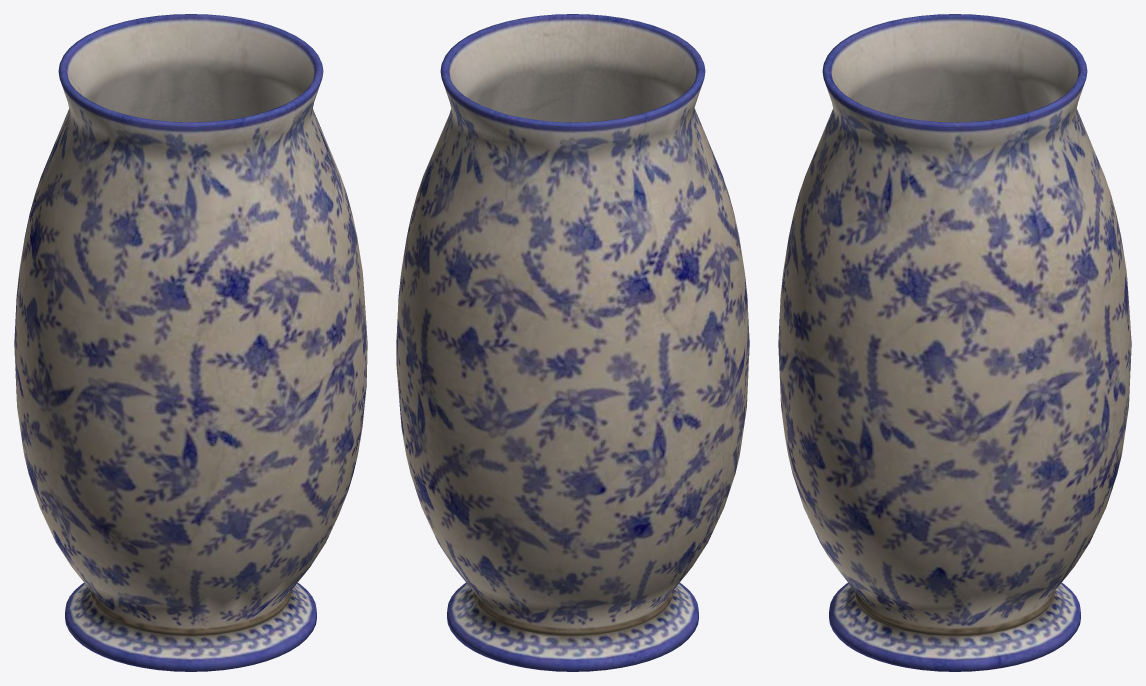
The model's file is antique_ceramic_vase_01.glb.
3 views of the same model, side by side, from view 1: azimuth 30°, elevation 25°; view 2: azimuth 150°, elevation 25°; view 3: azimuth 270°, elevation 25° (orthographic).
Visible parts, largest first — view 1: antique_ceramic_vase_01; view 2: antique_ceramic_vase_01; view 3: antique_ceramic_vase_01.
Part boxes in pixels (<box>): antique_ceramic_vase_01: <box>14,14,367,671</box>; antique_ceramic_vase_01: <box>396,14,749,671</box>; antique_ceramic_vase_01: <box>778,14,1131,671</box>.
Bounding box in the file's own units: 0.2549 × 0.4396 × 0.255.
Materials: 1 (1 with a texture image).
